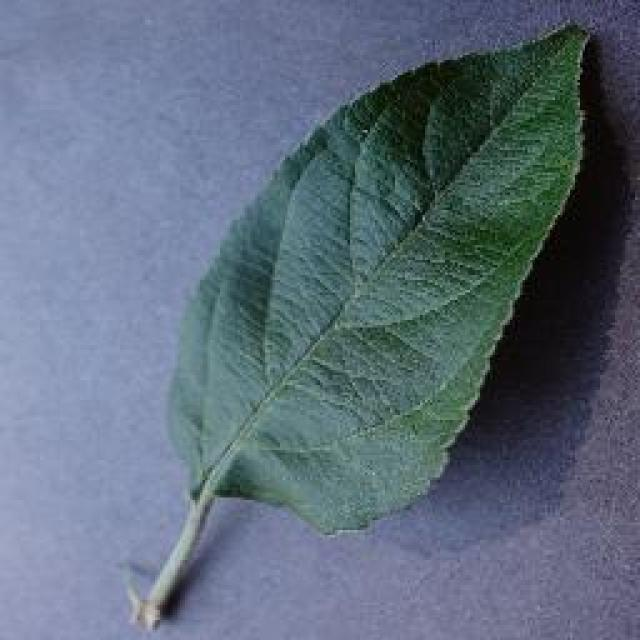apple healthy: (120, 18, 595, 630)
